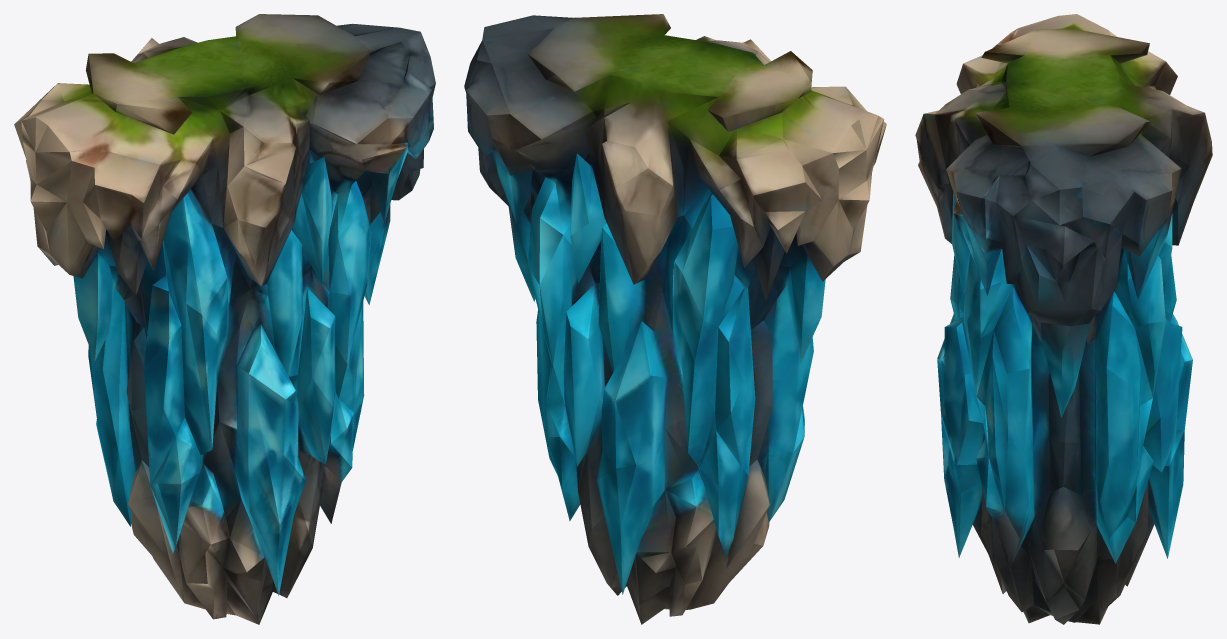
Rendered from m2HangingCrystal.glb.
The picture shows the model from 3 angles, left to right: view 1: azimuth 30°, elevation 25°; view 2: azimuth 150°, elevation 25°; view 3: azimuth 270°, elevation 25°; orthographic projection. The views are drawn at different scales.
Parts seen in each view (by area): view 1: model; view 2: model; view 3: model.
Part boxes in pixels (x1,y1,x2,y2): model: (14, 14, 435, 624); model: (464, 14, 886, 624); model: (915, 14, 1212, 624).
Size of the model in its own units: 1.41 by 1.89 by 0.9562.
Materials: 1 (1 with a texture image).
